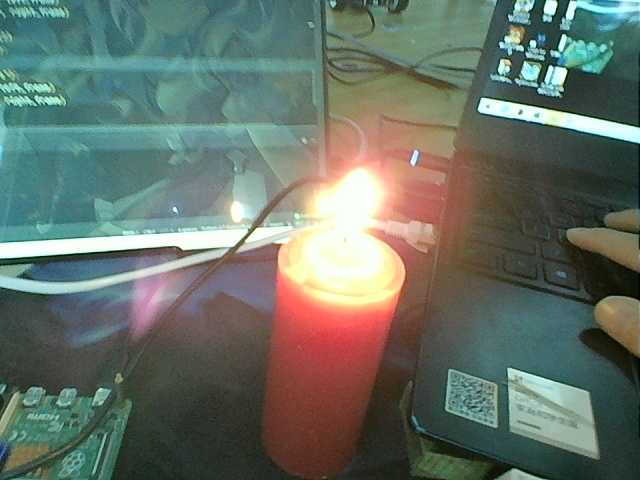candle: (267, 270, 391, 475)
fire: (309, 163, 377, 272)
